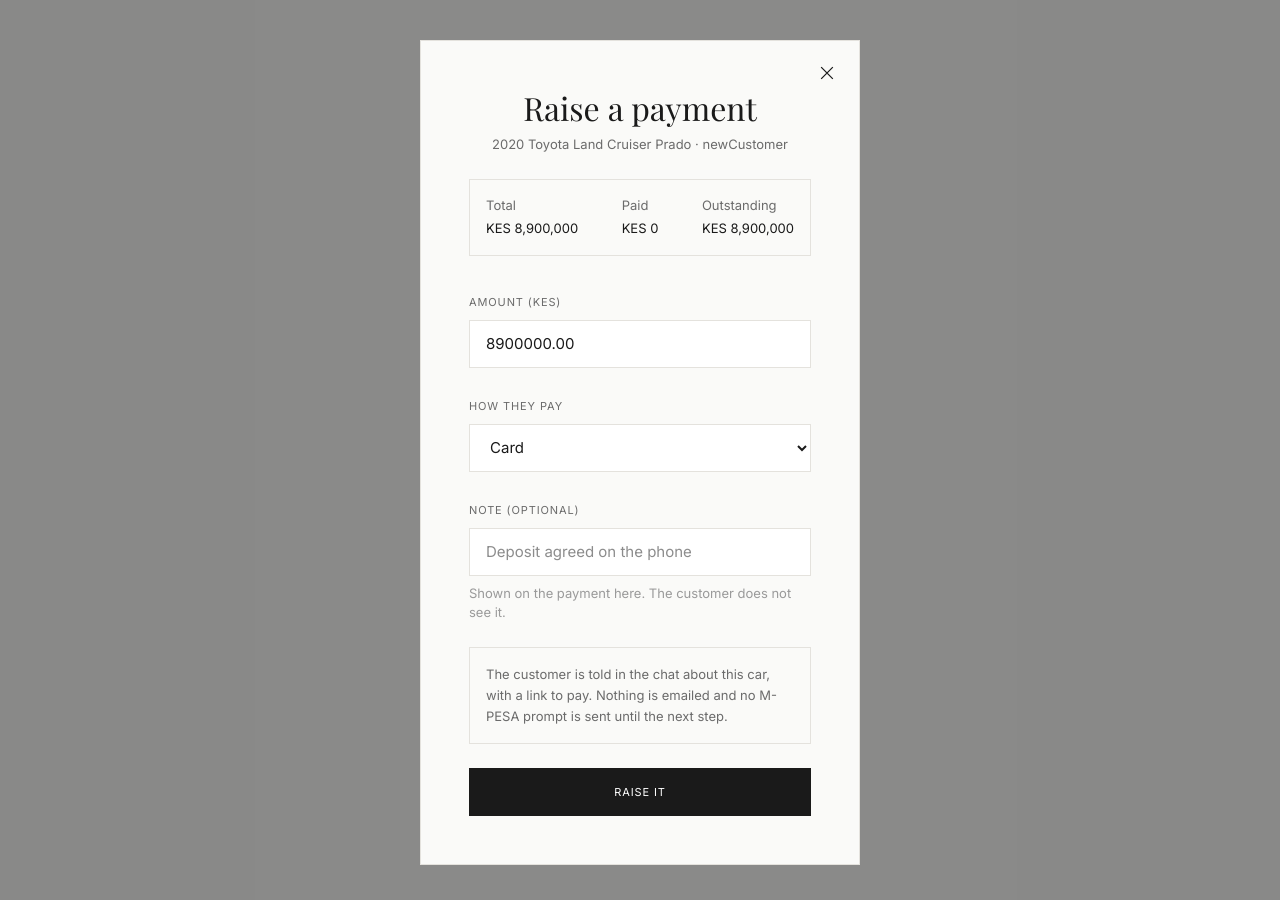
it: after it is raised › says nobody was told, when the order has no thread
Expected: the number field labelled "Amount (KES)" holds "8900000", x1=469 y1=320 x2=811 y2=368
Click the button "Raise it". click: (640, 792)
box: x1=469 y1=768 x2=811 y2=816
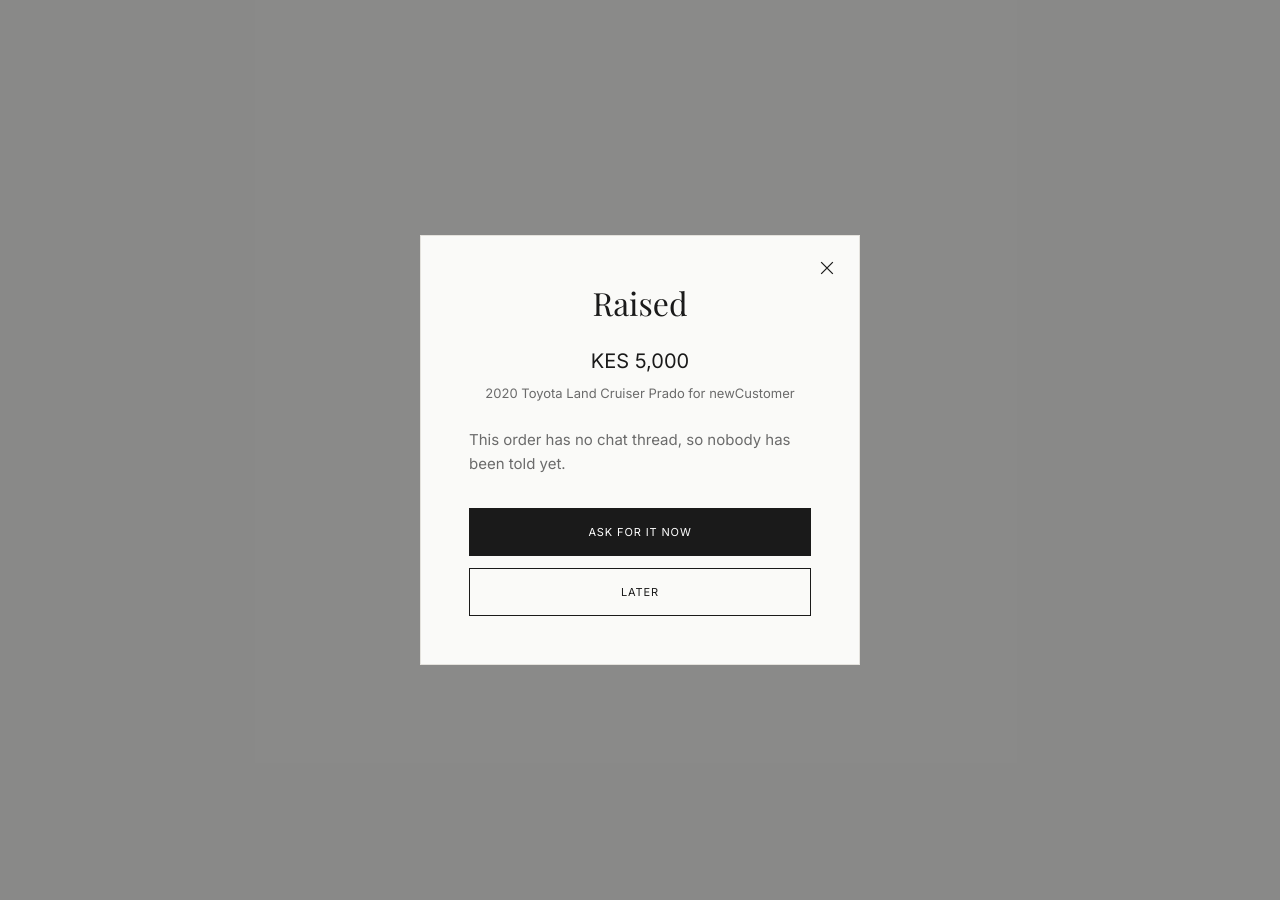
Now the text "This order has no chat thread, so nobody has been told yet." is shown, box x1=469 y1=428 x2=811 y2=476
Now the button "Ask for it now" is shown, box x1=469 y1=508 x2=811 y2=556
